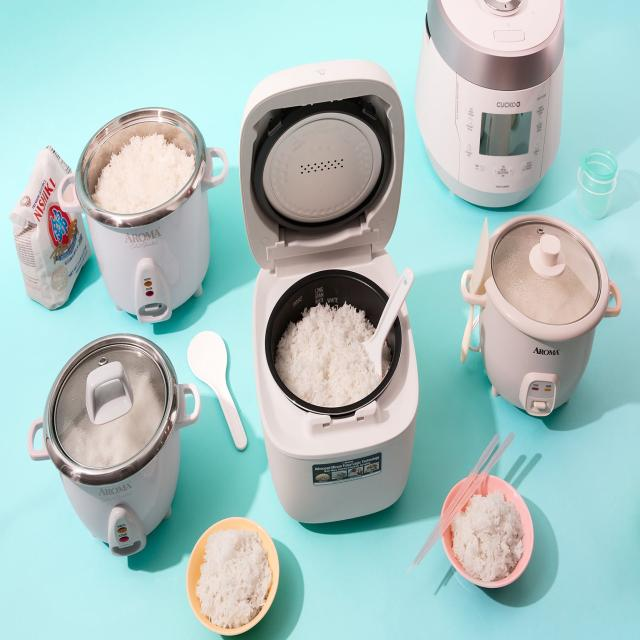appliances: (239, 60, 418, 522), (28, 333, 199, 555), (61, 108, 228, 322), (461, 214, 621, 414), (415, 0, 564, 207), (577, 148, 618, 218), (471, 347, 478, 349), (479, 247, 481, 251)
